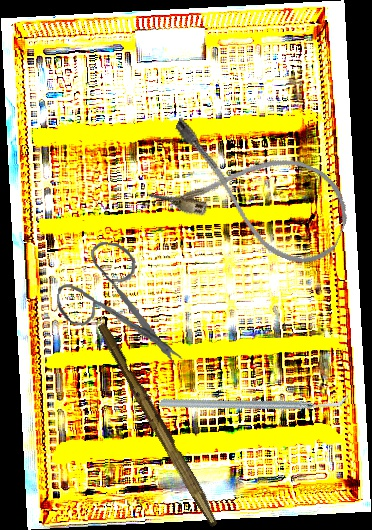Cannula: (145, 111, 361, 276)
Chopper: (158, 326, 350, 476)
Iris Scissors: (52, 238, 193, 367)
Scalpel Handle: (91, 321, 226, 528)
